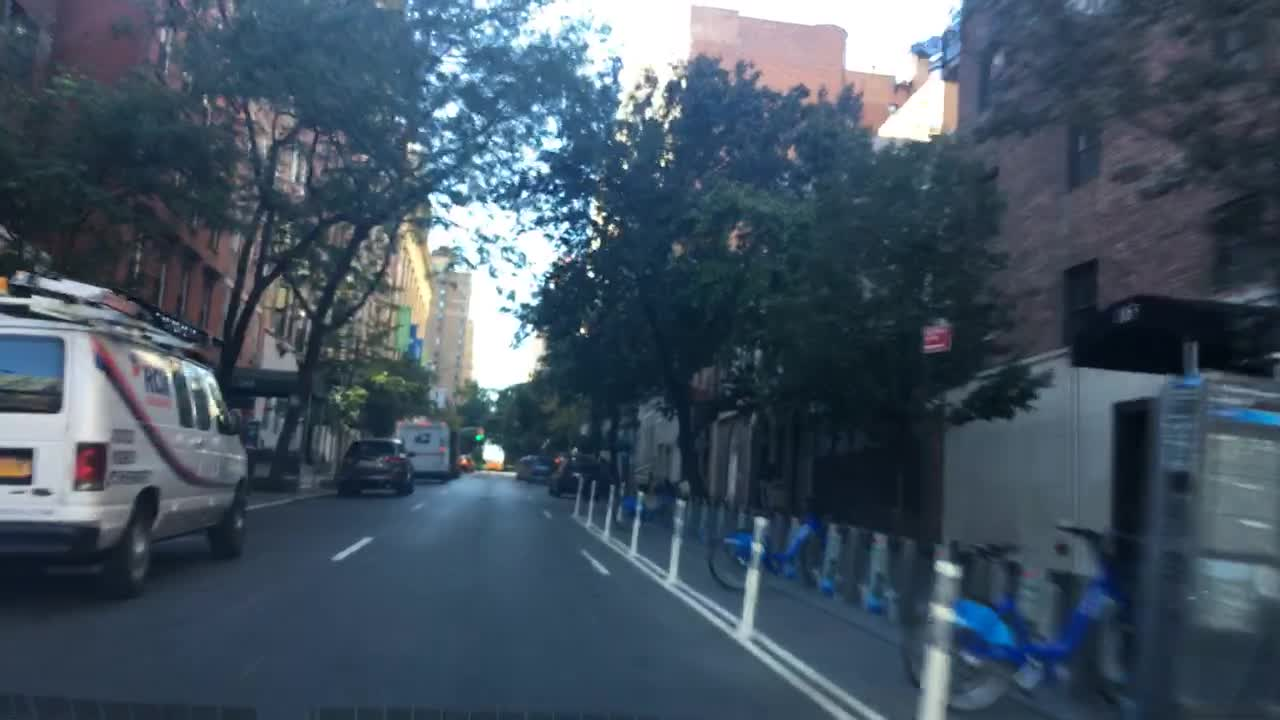bike: (904, 523, 1157, 719), (702, 496, 833, 596), (611, 474, 683, 531)
car: (0, 266, 253, 601), (334, 435, 417, 498), (546, 452, 604, 504), (526, 452, 562, 481), (516, 452, 535, 479), (457, 450, 476, 472), (481, 457, 503, 472)
traffic light: (472, 422, 484, 442)
traffic sign: (919, 320, 948, 351)
truck: (393, 417, 459, 481)
